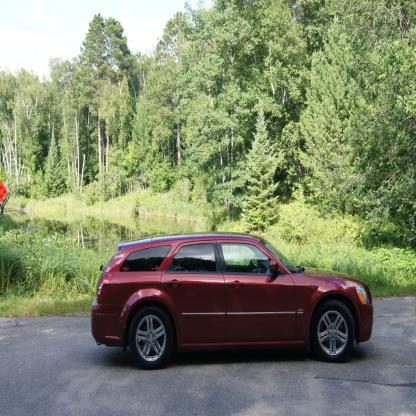Car: (91, 232, 375, 370)
